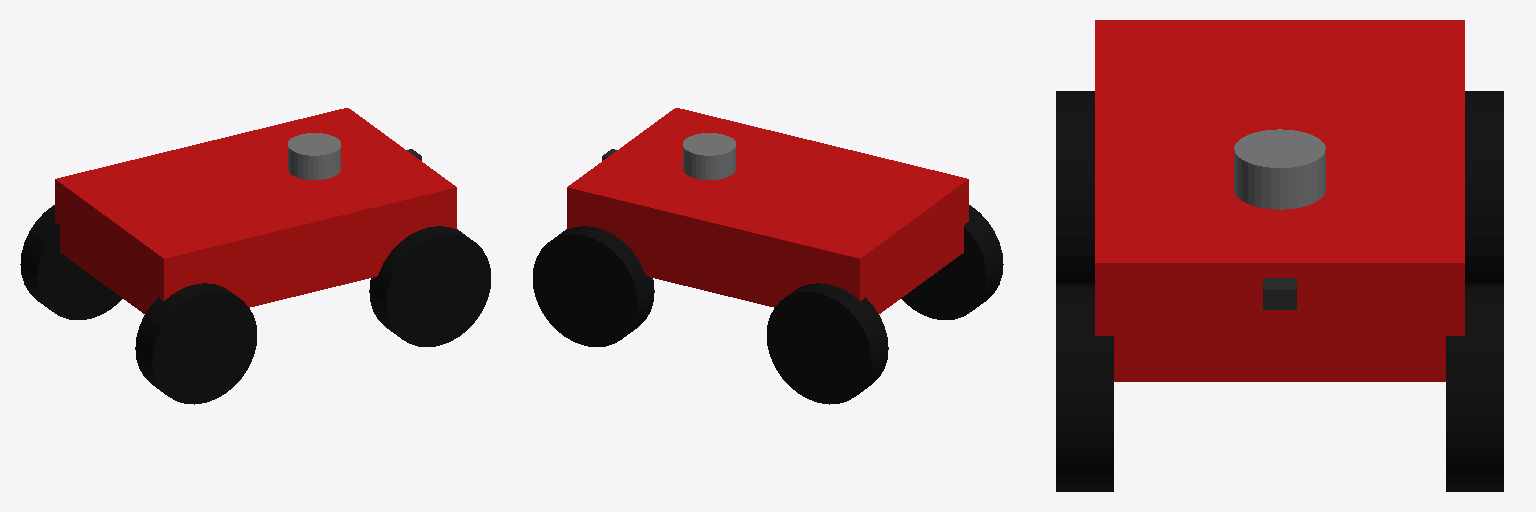
The robot description file, URDF, robot "pioneer_3at":
<?xml version="1.0"?>
<robot name="pioneer_3at">

  <!-- Base Link -->
  <link name="base_link">
    <visual>
      <origin xyz="0 0 0.177" rpy="0 0 0"/>
      <geometry>
        <box size="0.501 0.323 0.114"/>
      </geometry>
      <material name="pioneer_red">
        <color rgba="0.8 0.1 0.1 1.0"/>
      </material>
    </visual>
    <collision>
      <origin xyz="0 0 0.177" rpy="0 0 0"/>
      <geometry>
        <box size="0.501 0.323 0.114"/>
      </geometry>
    </collision>
    <inertial>
      <mass value="16.0"/>
      <origin xyz="0 0 0.177"/>
      <inertia ixx="0.3338" ixy="0.0" ixz="0.0" iyy="1.2835" iyz="0.0" izz="1.4165"/>
    </inertial>
  </link>

  <!-- Front Left Wheel -->
  <link name="front_left_wheel">
    <visual>
      <origin xyz="0 0 0" rpy="1.5708 0 0"/>
      <geometry>
        <cylinder radius="0.09" length="0.05"/>
      </geometry>
      <material name="wheel_black">
        <color rgba="0.1 0.1 0.1 1.0"/>
      </material>
    </visual>
    <collision>
      <origin xyz="0 0 0" rpy="1.5708 0 0"/>
      <geometry>
        <cylinder radius="0.09" length="0.05"/>
      </geometry>
    </collision>
    <inertial>
      <mass value="0.5"/>
      <origin xyz="0 0 0"/>
      <inertia ixx="0.01" ixy="0.0" ixz="0.0" iyy="0.005" iyz="0.0" izz="0.005"/>
    </inertial>
  </link>

  <!-- Front Right Wheel -->
  <link name="front_right_wheel">
    <visual>
      <origin xyz="0 0 0" rpy="1.5708 0 0"/>
      <geometry>
        <cylinder radius="0.09" length="0.05"/>
      </geometry>
      <material name="wheel_black">
        <color rgba="0.1 0.1 0.1 1.0"/>
      </material>
    </visual>
    <collision>
      <origin xyz="0 0 0" rpy="1.5708 0 0"/>
      <geometry>
        <cylinder radius="0.09" length="0.05"/>
      </geometry>
    </collision>
    <inertial>
      <mass value="0.5"/>
      <origin xyz="0 0 0"/>
      <inertia ixx="0.01" ixy="0.0" ixz="0.0" iyy="0.005" iyz="0.0" izz="0.005"/>
    </inertial>
  </link>

  <!-- Rear Left Wheel -->
  <link name="rear_left_wheel">
    <visual>
      <origin xyz="0 0 0" rpy="1.5708 0 0"/>
      <geometry>
        <cylinder radius="0.09" length="0.05"/>
      </geometry>
      <material name="wheel_black">
        <color rgba="0.1 0.1 0.1 1.0"/>
      </material>
    </visual>
    <collision>
      <origin xyz="0 0 0" rpy="1.5708 0 0"/>
      <geometry>
        <cylinder radius="0.09" length="0.05"/>
      </geometry>
    </collision>
    <inertial>
      <mass value="0.5"/>
      <origin xyz="0 0 0"/>
      <inertia ixx="0.01" ixy="0.0" ixz="0.0" iyy="0.005" iyz="0.0" izz="0.005"/>
    </inertial>
  </link>

  <!-- Rear Right Wheel -->
  <link name="rear_right_wheel">
    <visual>
      <origin xyz="0 0 0" rpy="1.5708 0 0"/>
      <geometry>
        <cylinder radius="0.09" length="0.05"/>
      </geometry>
      <material name="wheel_black">
        <color rgba="0.1 0.1 0.1 1.0"/>
      </material>
    </visual>
    <collision>
      <origin xyz="0 0 0" rpy="1.5708 0 0"/>
      <geometry>
        <cylinder radius="0.09" length="0.05"/>
      </geometry>
    </collision>
    <inertial>
      <mass value="0.5"/>
      <origin xyz="0 0 0"/>
      <inertia ixx="0.01" ixy="0.0" ixz="0.0" iyy="0.005" iyz="0.0" izz="0.005"/>
    </inertial>
  </link>

  <!-- Laser Scanner Mount (top of robot) -->
  <link name="laser_mount">
    <visual>
      <origin xyz="0 0 0.02" rpy="0 0 0"/>
      <geometry>
        <cylinder radius="0.04" length="0.04"/>
      </geometry>
      <material name="mount_gray">
        <color rgba="0.5 0.5 0.5 1.0"/>
      </material>
    </visual>
    <collision>
      <origin xyz="0 0 0.02" rpy="0 0 0"/>
      <geometry>
        <cylinder radius="0.04" length="0.04"/>
      </geometry>
    </collision>
    <inertial>
      <mass value="0.2"/>
      <origin xyz="0 0 0.02"/>
      <inertia ixx="0.001" ixy="0.0" ixz="0.0" iyy="0.001" iyz="0.0" izz="0.0005"/>
    </inertial>
  </link>

  <!-- Camera Mount (front of robot) -->
  <link name="camera_mount">
    <visual>
      <origin xyz="0 0 0.01" rpy="0 0 0"/>
      <geometry>
        <box size="0.05 0.03 0.02"/>
      </geometry>
      <material name="camera_black">
        <color rgba="0.2 0.2 0.2 1.0"/>
      </material>
    </visual>
    <collision>
      <origin xyz="0 0 0.01" rpy="0 0 0"/>
      <geometry>
        <box size="0.05 0.03 0.02"/>
      </geometry>
    </collision>
    <inertial>
      <mass value="0.1"/>
      <origin xyz="0 0 0.01"/>
      <inertia ixx="0.0001" ixy="0.0" ixz="0.0" iyy="0.0001" iyz="0.0" izz="0.0001"/>
    </inertial>
  </link>

  <!-- Wheel Joints -->
  <!-- Front wheels: steered (revolute joints for Ackermann steering) -->
  <joint name="front_left_wheel_joint" type="continuous">
    <parent link="base_link"/>
    <child link="front_left_wheel"/>
    <origin xyz="0.2 0.17 0.09" rpy="0 0 0"/>
    <axis xyz="0 1 0"/>
  </joint>

  <joint name="front_right_wheel_joint" type="continuous">
    <parent link="base_link"/>
    <child link="front_right_wheel"/>
    <origin xyz="0.2 -0.17 0.09" rpy="0 0 0"/>
    <axis xyz="0 1 0"/>
  </joint>

  <!-- Rear wheels: driven (continuous joints) -->
  <joint name="rear_left_wheel_joint" type="continuous">
    <parent link="base_link"/>
    <child link="rear_left_wheel"/>
    <origin xyz="-0.2 0.17 0.09" rpy="0 0 0"/>
    <axis xyz="0 1 0"/>
  </joint>

  <joint name="rear_right_wheel_joint" type="continuous">
    <parent link="base_link"/>
    <child link="rear_right_wheel"/>
    <origin xyz="-0.2 -0.17 0.09" rpy="0 0 0"/>
    <axis xyz="0 1 0"/>
  </joint>

  <!-- Sensor Mounts -->
  <joint name="laser_mount_joint" type="fixed">
    <parent link="base_link"/>
    <child link="laser_mount"/>
    <origin xyz="0.1 0 0.234" rpy="0 0 0"/>
  </joint>

  <joint name="camera_mount_joint" type="fixed">
    <parent link="base_link"/>
    <child link="camera_mount"/>
    <origin xyz="0.25 0 0.2" rpy="0 0 0"/>
  </joint>

  <!-- Gazebo-specific properties -->
  <gazebo reference="base_link">
    <material>Gazebo/Red</material>
  </gazebo>

  <gazebo reference="front_left_wheel">
    <material>Gazebo/Black</material>
  </gazebo>

  <gazebo reference="front_right_wheel">
    <material>Gazebo/Black</material>
  </gazebo>

  <gazebo reference="rear_left_wheel">
    <material>Gazebo/Black</material>
  </gazebo>

  <gazebo reference="rear_right_wheel">
    <material>Gazebo/Black</material>
  </gazebo>

  <gazebo reference="laser_mount">
    <material>Gazebo/Grey</material>
  </gazebo>

  <gazebo reference="camera_mount">
    <material>Gazebo/Black</material>
  </gazebo>

</robot>

--- What the picture shows (computed from the rendered views, not written in the file) ---
The picture shows the robot from 3 angles, left to right: view 1: azimuth 30°, elevation 25°; view 2: azimuth 150°, elevation 25°; view 3: azimuth 270°, elevation 25°; orthographic projection.
Model pioneer_3at with 7 links and 6 joints (4 continuous, 2 fixed), rooted at base_link, posed all joints at 0.
Visible links, largest first — view 1: base_link, rear_right_wheel, front_right_wheel, rear_left_wheel, laser_mount; view 2: base_link, rear_left_wheel, front_left_wheel, rear_right_wheel, laser_mount; view 3: base_link, front_left_wheel, front_right_wheel, rear_left_wheel, rear_right_wheel, laser_mount, camera_mount.
Boxes of the visible links, x1,y1,x2,y2 form: base_link: (55, 108, 456, 313); rear_right_wheel: (135, 283, 256, 404); front_right_wheel: (369, 226, 490, 346); rear_left_wheel: (20, 205, 122, 319); laser_mount: (288, 133, 340, 179); base_link: (567, 108, 968, 313); rear_left_wheel: (767, 283, 888, 404); front_left_wheel: (533, 226, 654, 346); rear_right_wheel: (901, 205, 1003, 319); laser_mount: (683, 133, 735, 179); base_link: (1095, 20, 1464, 381); front_left_wheel: (1446, 285, 1503, 491); front_right_wheel: (1056, 285, 1113, 491); rear_left_wheel: (1465, 91, 1503, 284); rear_right_wheel: (1056, 91, 1094, 284); laser_mount: (1234, 129, 1325, 209); camera_mount: (1263, 278, 1296, 309).
Size in the robot's own frame: 0.58 by 0.39 by 0.274 metres.
Geometry: primitives only (box / cylinder / sphere), no mesh files.
